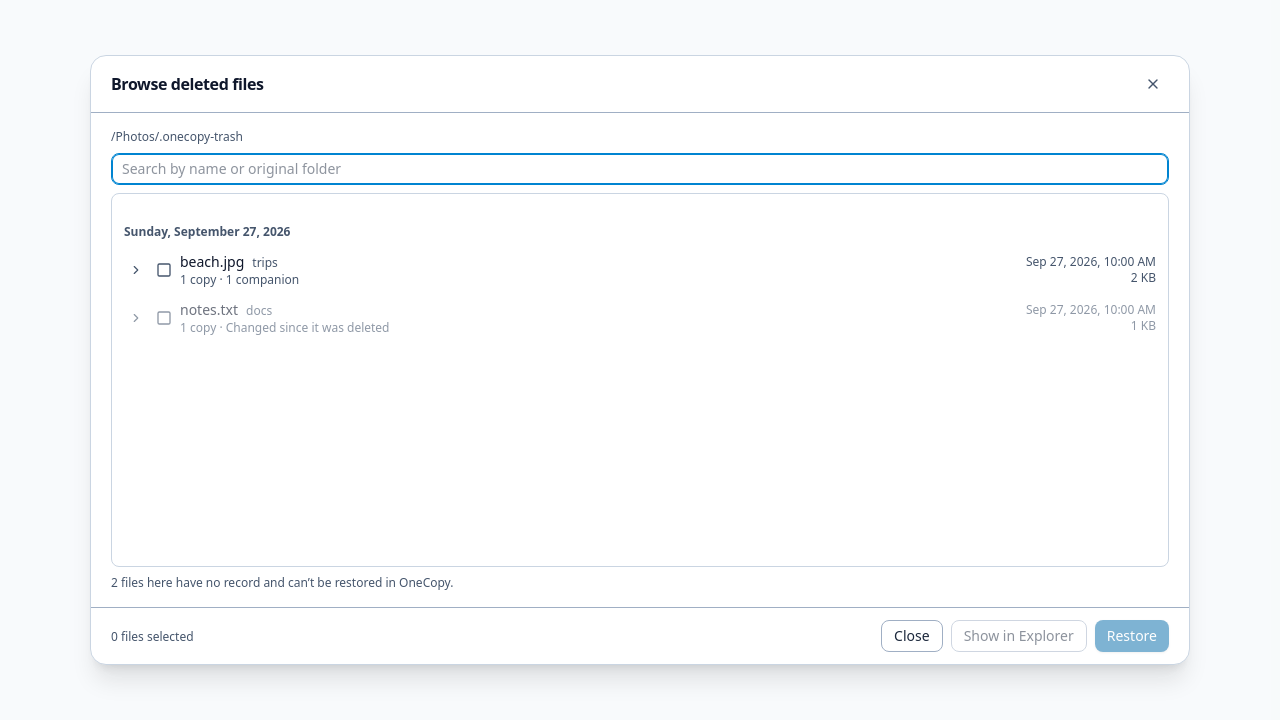
Test case: Restore › restores a clean selection at once and shows the receipt
Focus the list. click: (640, 380)
box: [111,193,1169,567]
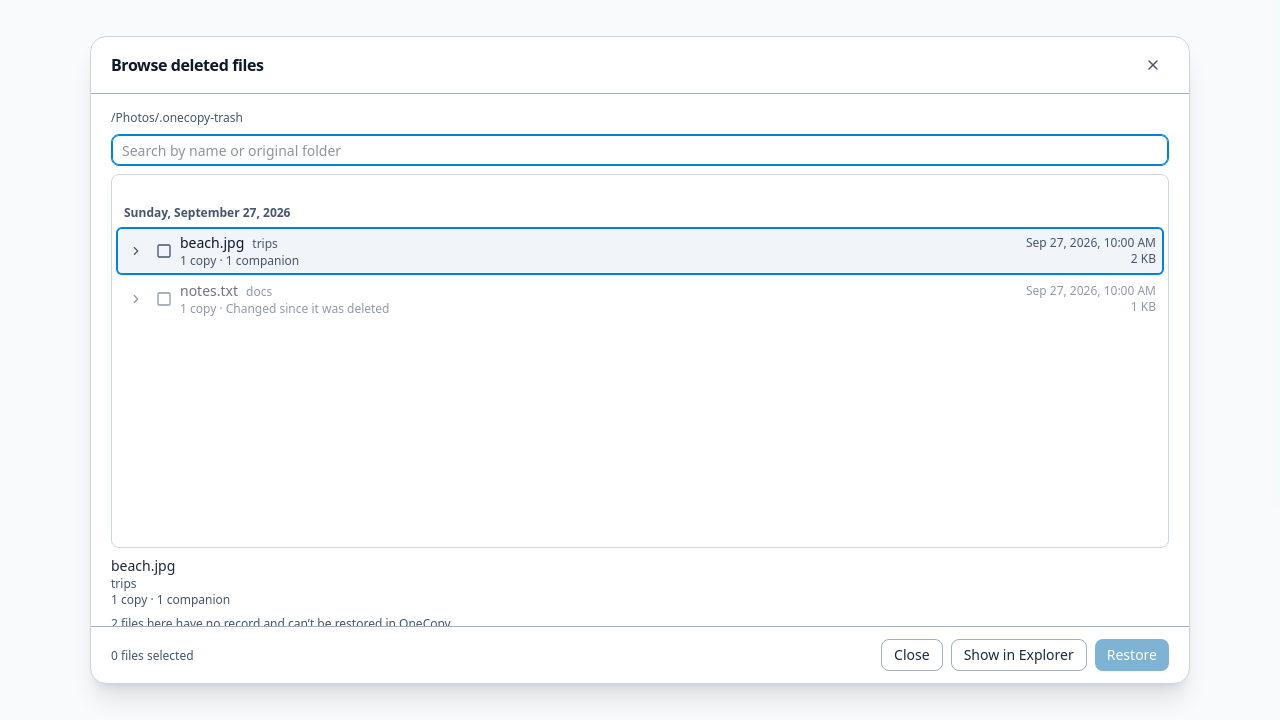
Press Space in the list, box [111,174,1169,548]
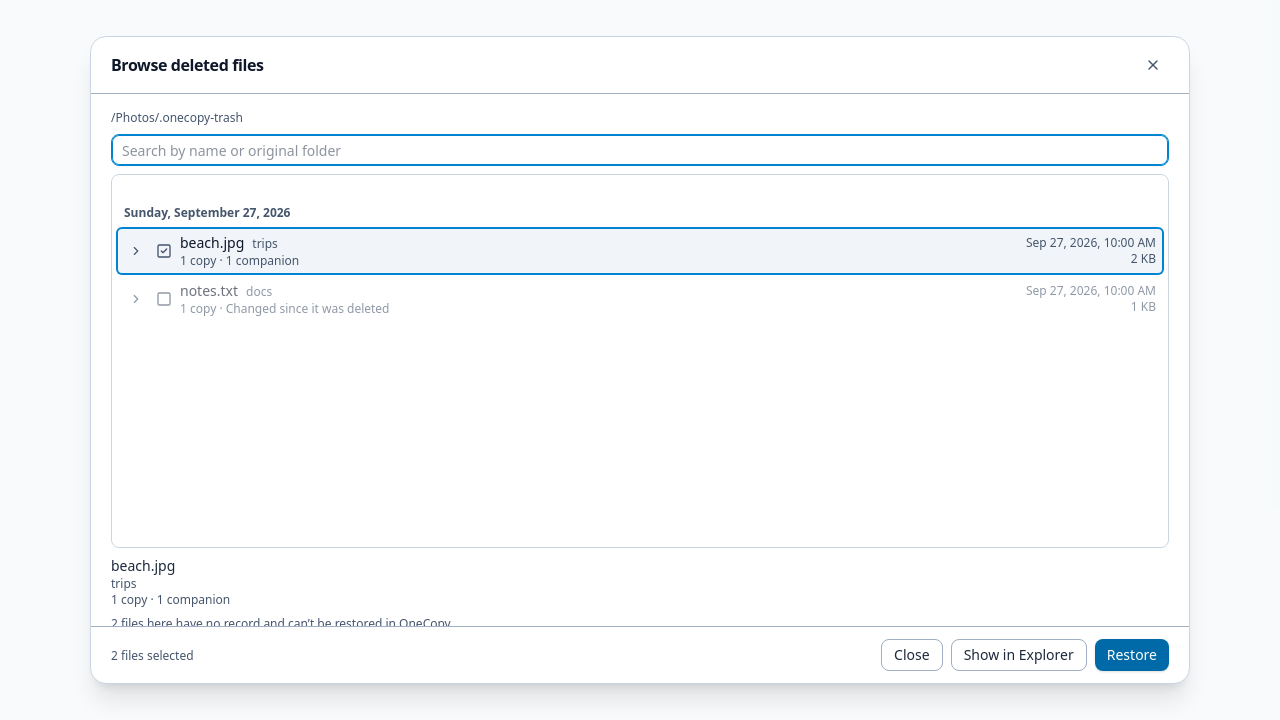
Expected: the button "Restore" is enabled
Click the button "Restore". click: (1132, 655)
box: [1095,639,1169,671]
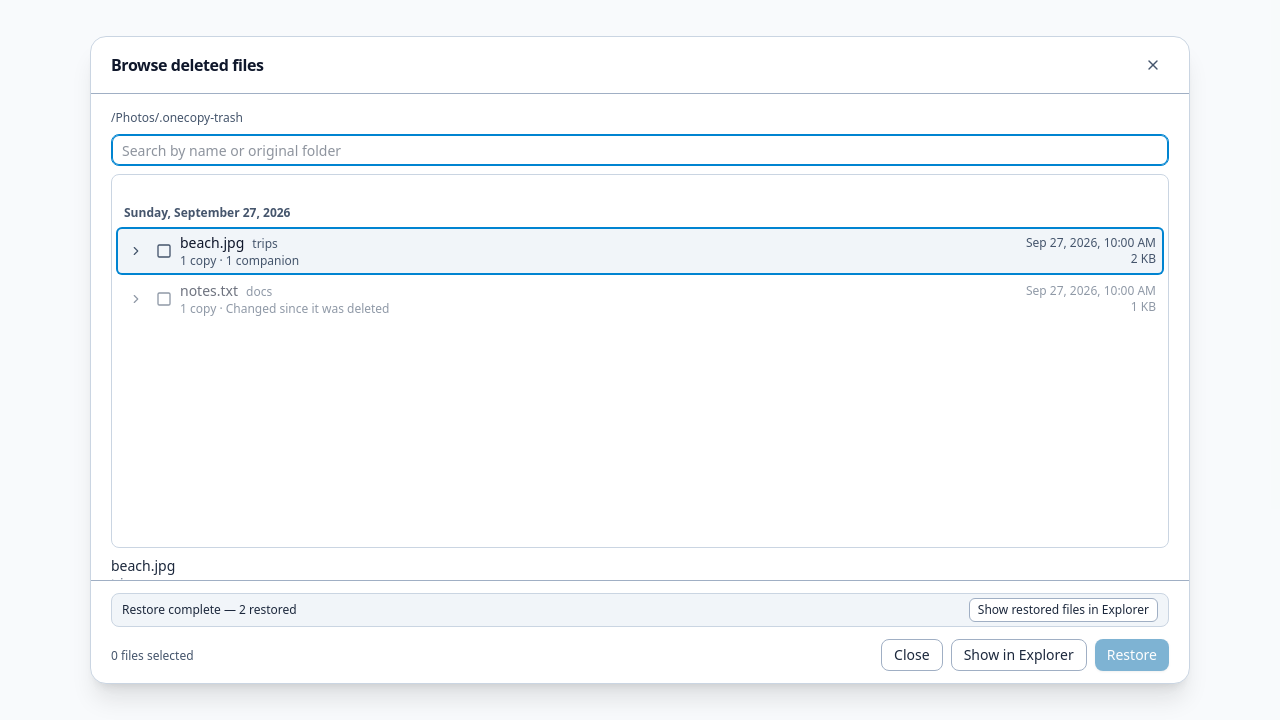
Expected: the text "Restore complete — 2 restored" is shown, [122,601,297,618]
Expected: the text "0 files selected" is shown, [111,647,194,664]
